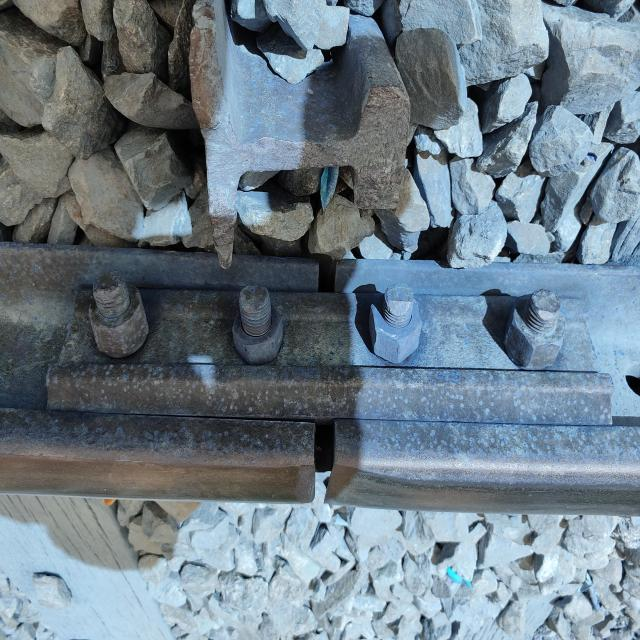Good Joint: (13, 231, 632, 552)
